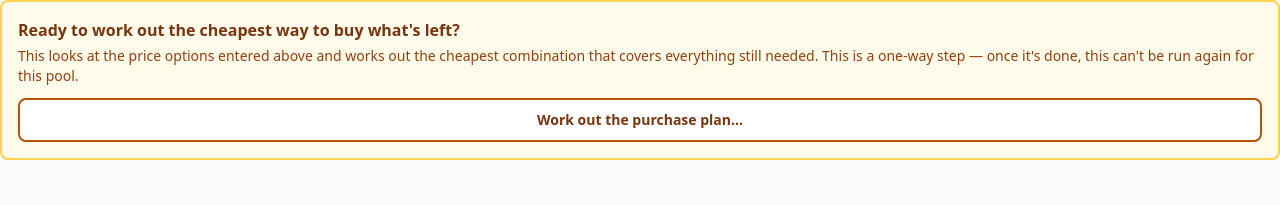
it: GeneratePurchasePlanAction › shows a generic retry message on a non-409 failure, distinct from the 409 message
Click the button "Work out the purchase plan…" at x=640, y=120, box [18,98,1262,142]
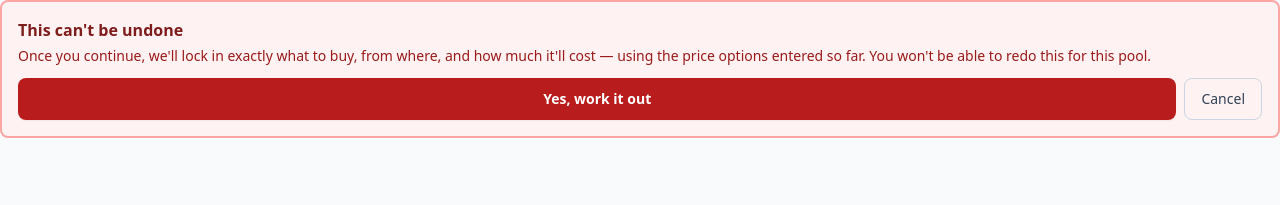
Click the button "Yes, work it out" at x=597, y=99, box [18,78,1176,120]
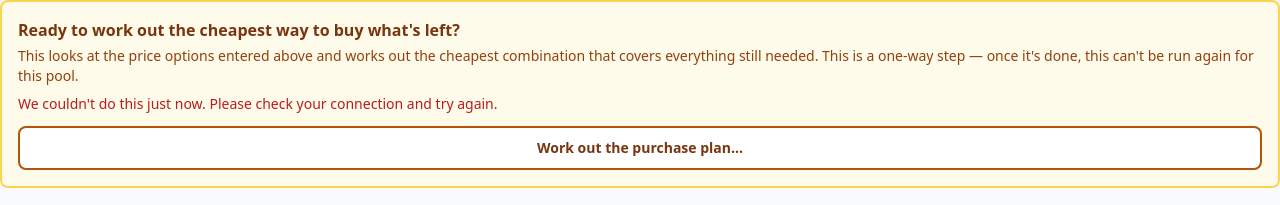
Expected: the text "We couldn't do this just now. Please check your connection and try again." is shown, [18,94,498,113]
